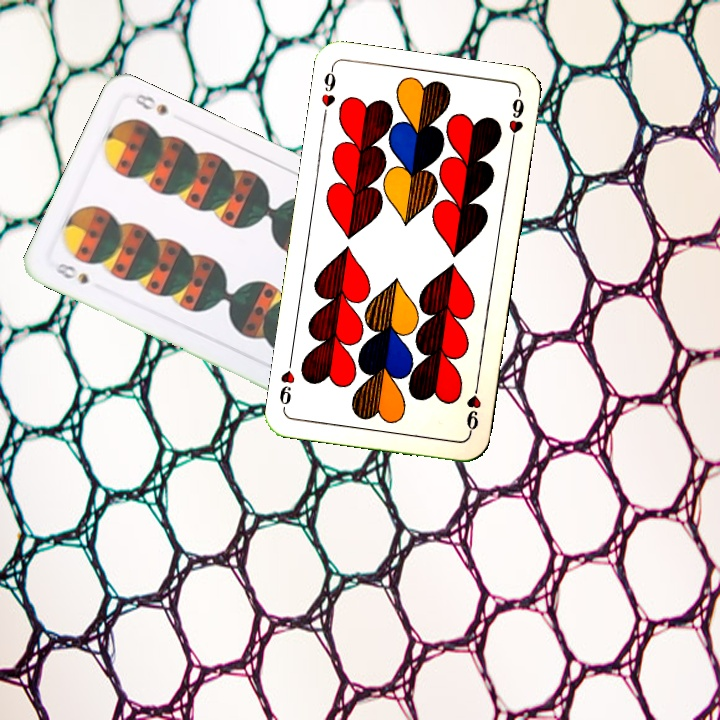H9: (462, 378, 484, 437), (317, 65, 339, 110)
S8: (50, 258, 91, 287)
